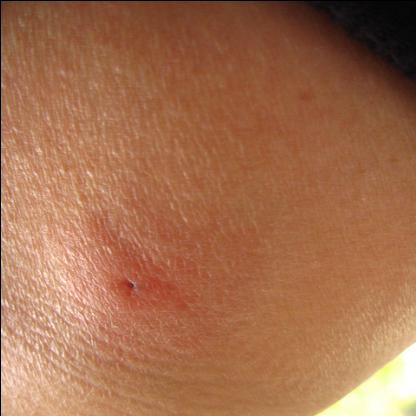Tick: (86, 252, 178, 315)
